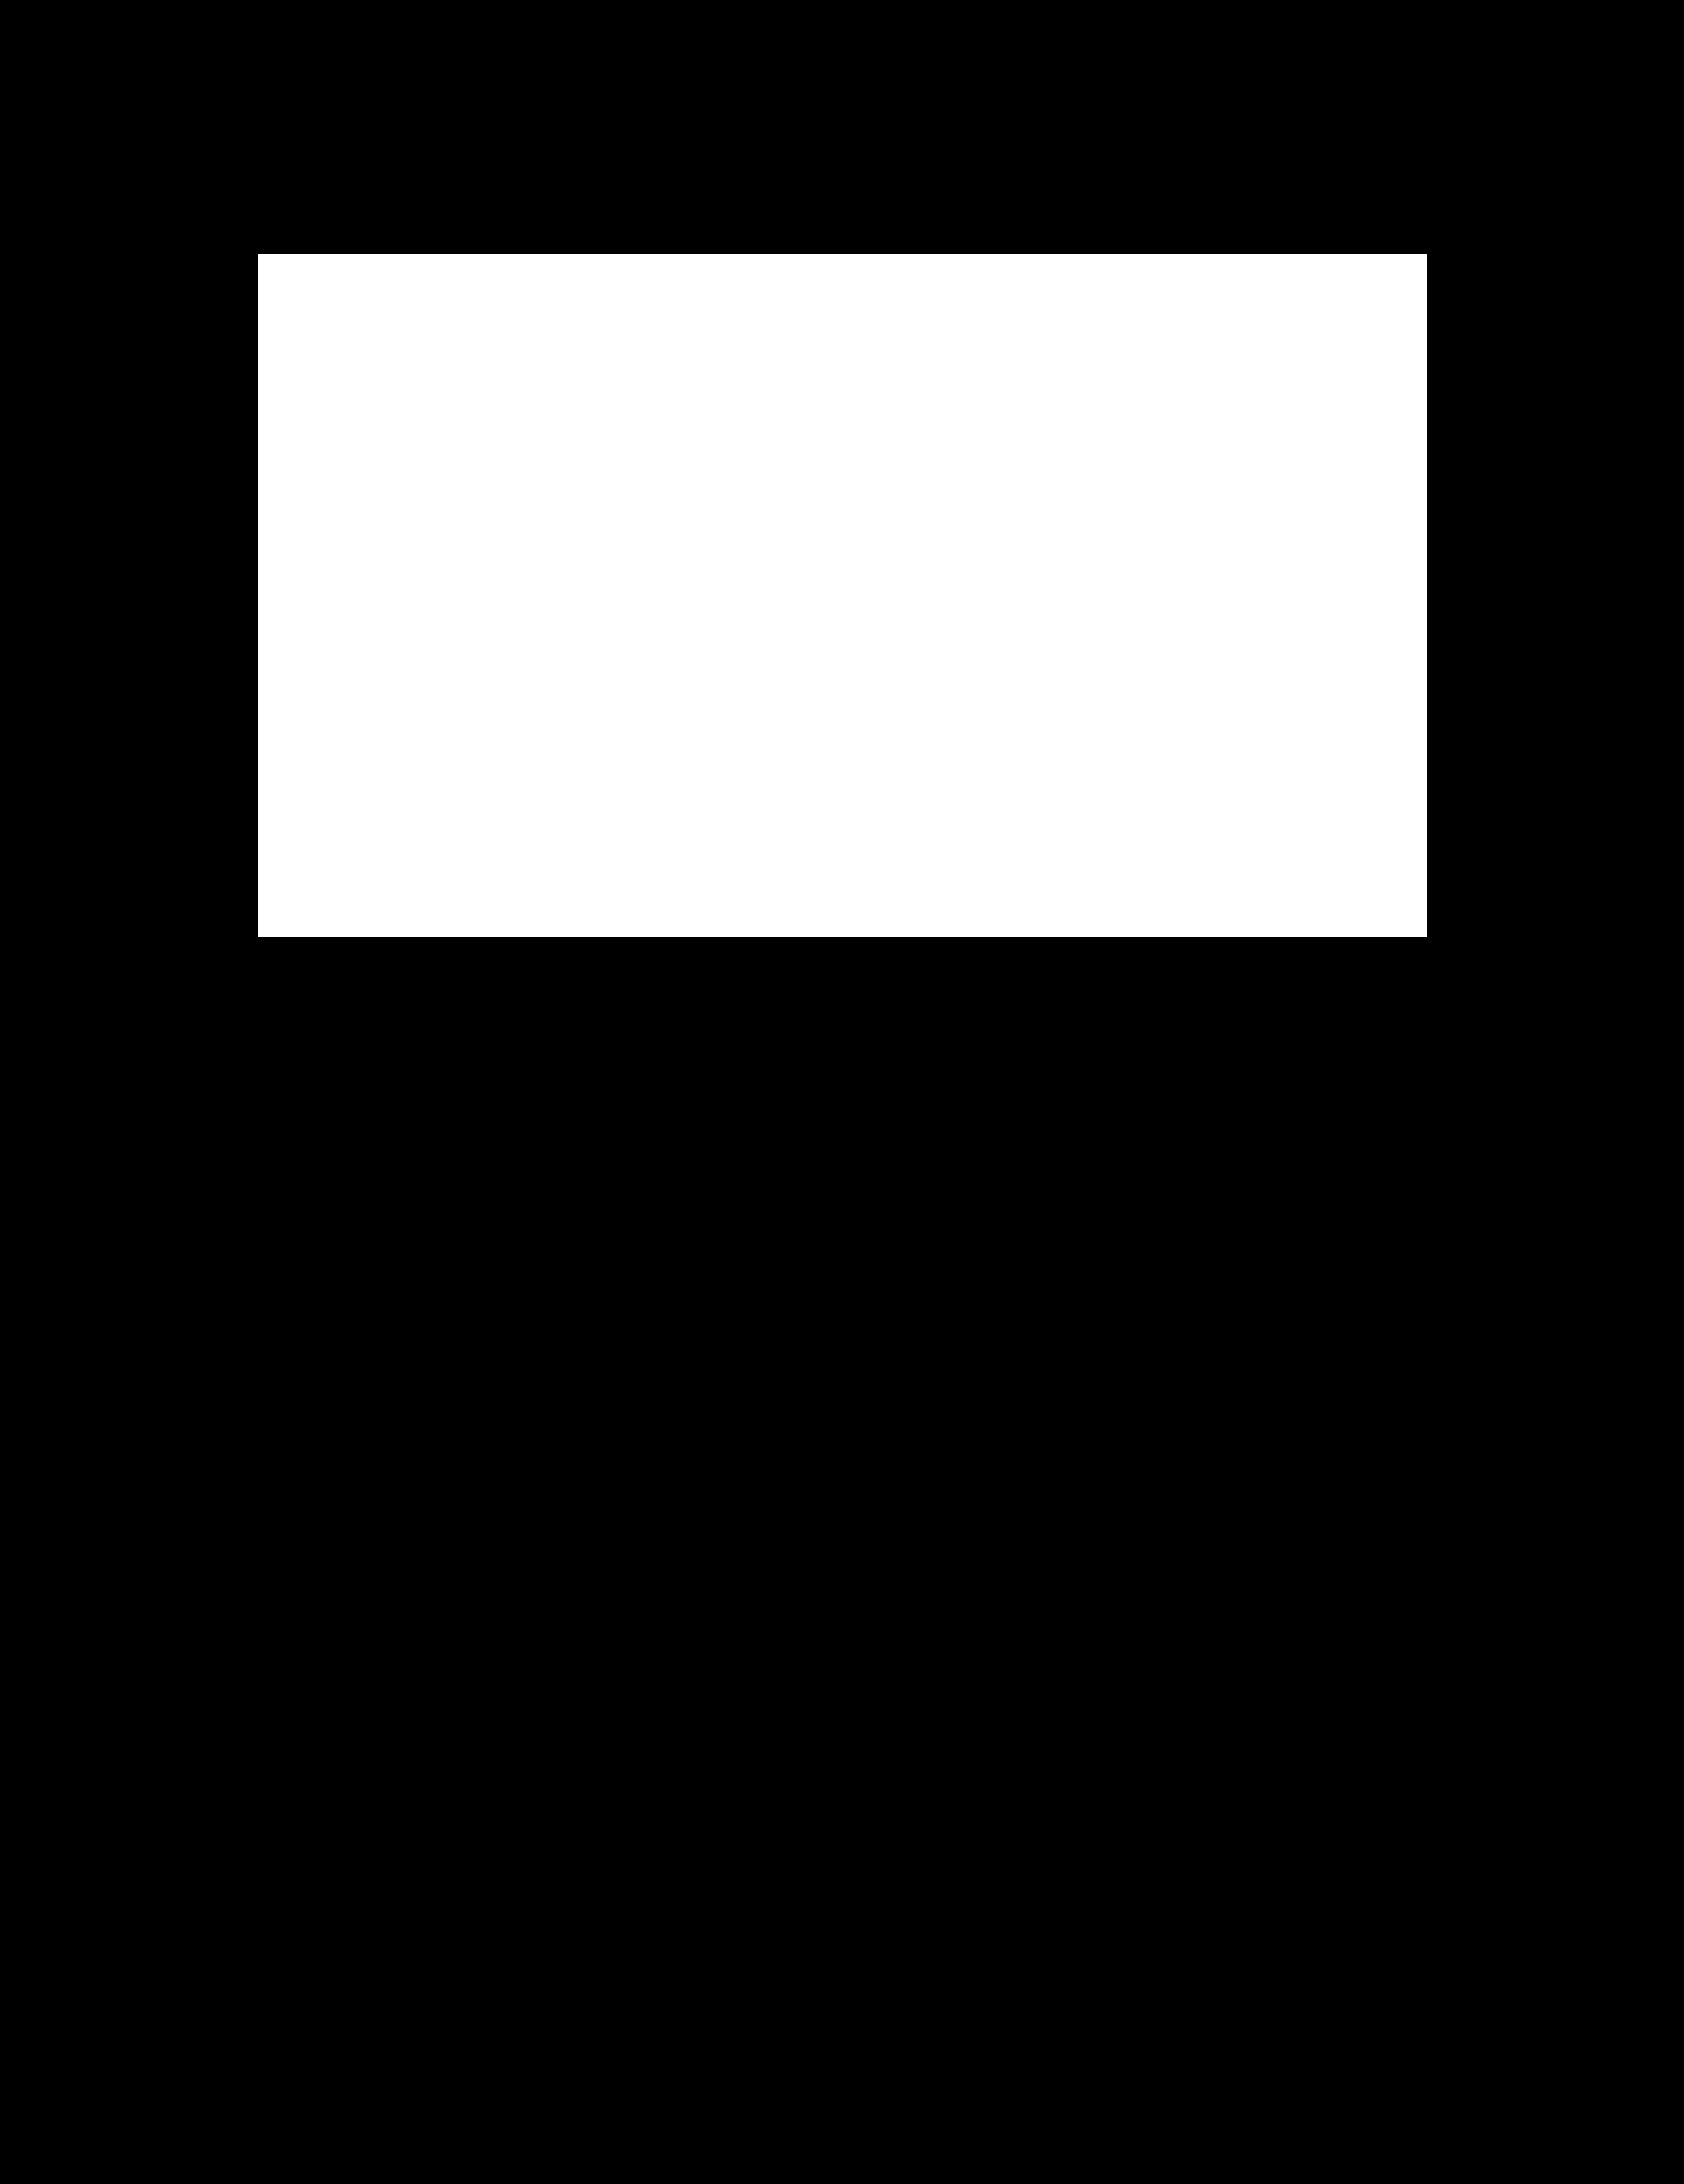table: (258, 255, 1426, 937)
